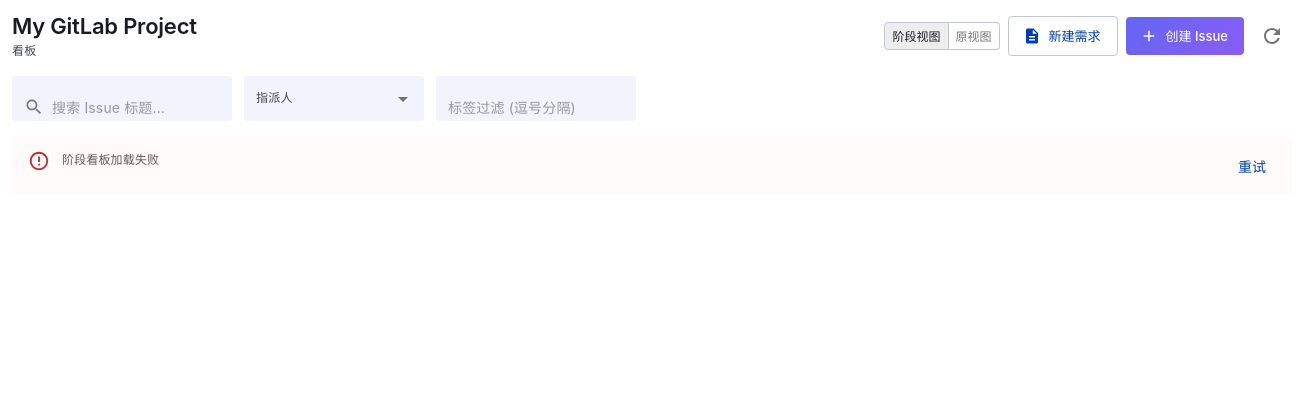
Test: KanbanPage stage view › shows a retryable error when the stage kanban fails
The image size is (1304, 399).
Check: the text "阶段看板加载失败" is shown, box [62, 152, 159, 167]
Click the button "重试" at (1252,167), box [1220, 147, 1284, 188]
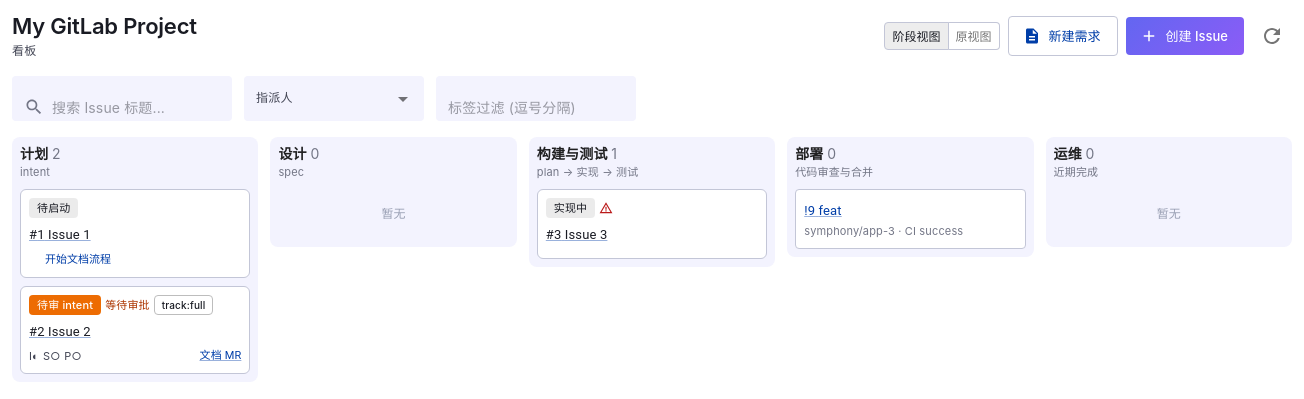
Check: the element with test id "stage-col-plan" is shown, box [12, 137, 258, 382]
